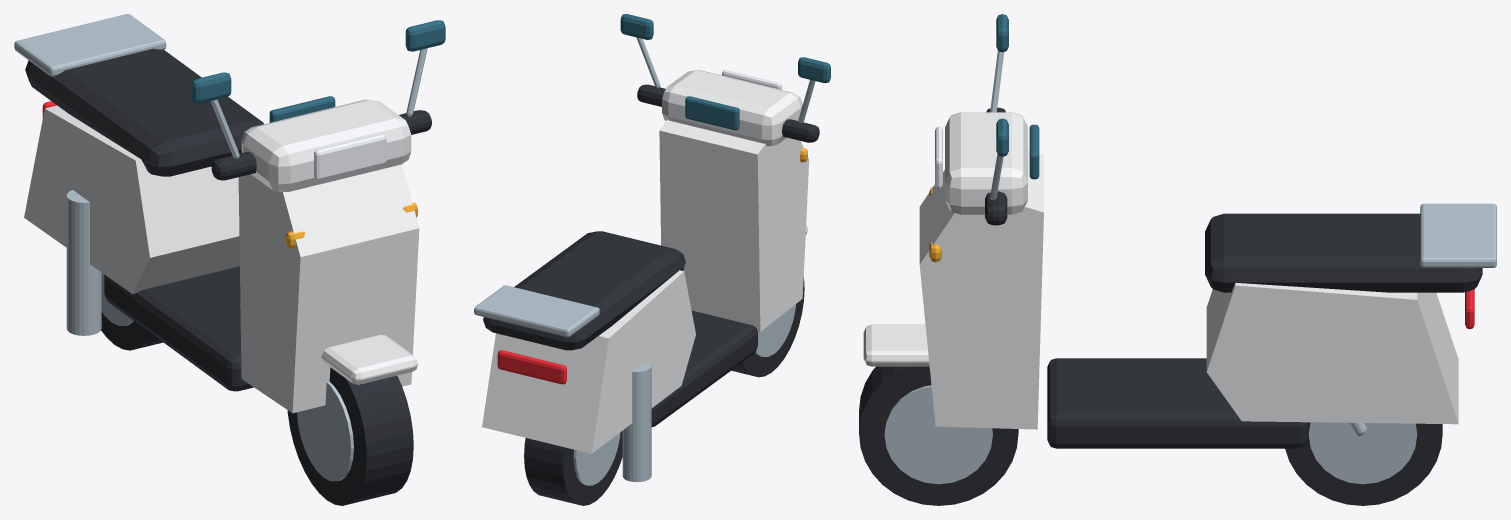
Rendered from taiwan-scooter-white.glb.
The picture shows the model from 3 angles, left to right: view 1: azimuth 30°, elevation 25°; view 2: azimuth 150°, elevation 25°; view 3: azimuth 270°, elevation 25°; orthographic projection. The views are drawn at different scales.
Visible parts, largest first — view 1: Front fairing, Rear body, Two-place saddle, Step-through floor, Scooter tyre.001, Handlebar nacelle, Rear rack, Exhaust, Scooter alloy.002, Front fender, Headlamp, Scooter tyre (+8 smaller); view 2: Front fairing, Rear body, Two-place saddle, Handlebar nacelle, Step-through floor, Rear rack, Scooter tyre, Exhaust, Rear light, Scooter alloy, Scooter tyre.001, Instrument panel (+6 smaller); view 3: Rear body, Front fairing, Step-through floor, Two-place saddle, Scooter tyre.001, Handlebar nacelle, Scooter alloy.003, Scooter alloy.001, Rear rack, Scooter tyre, Front fender.
Boxes of the visible parts, left/top/right/bottom form: Front fairing: left=238, top=164, right=419, bottom=413; Rear body: left=24, top=105, right=239, bottom=294; Two-place saddle: left=25, top=48, right=263, bottom=176; Step-through floor: left=104, top=266, right=253, bottom=391; Scooter tyre.001: left=287, top=367, right=413, bottom=505; Handlebar nacelle: left=241, top=99, right=411, bottom=192; Rear rack: left=14, top=14, right=166, bottom=76; Exhaust: left=66, top=190, right=101, bottom=335; Scooter alloy.002: left=297, top=381, right=353, bottom=481; Front fender: left=321, top=334, right=417, bottom=384; Headlamp: left=314, top=134, right=386, bottom=180; Scooter tyre: left=101, top=312, right=162, bottom=350; Front fairing: left=659, top=119, right=809, bottom=331; Rear body: left=482, top=270, right=695, bottom=453; Two-place saddle: left=483, top=231, right=685, bottom=350; Handlebar nacelle: left=662, top=70, right=802, bottom=146; Step-through floor: left=651, top=310, right=757, bottom=426; Rear rack: left=474, top=285, right=599, bottom=337; Scooter tyre: left=524, top=431, right=622, bottom=505; Exhaust: left=622, top=361, right=651, bottom=482; Rear light: left=497, top=350, right=566, bottom=384; Scooter alloy: left=573, top=432, right=620, bottom=485; Scooter tyre.001: left=731, top=277, right=804, bottom=377; Instrument panel: left=685, top=96, right=739, bottom=130; Rear body: left=1206, top=283, right=1458, bottom=424; Front fairing: left=919, top=150, right=1043, bottom=429; Step-through floor: left=1047, top=358, right=1308, bottom=448; Two-place saddle: left=1205, top=213, right=1482, bottom=292; Scooter tyre.001: left=859, top=366, right=1018, bottom=505; Handlebar nacelle: left=945, top=112, right=1027, bottom=214; Scooter alloy.003: left=884, top=385, right=992, bottom=484; Scooter alloy.001: left=1308, top=422, right=1417, bottom=484; Rear rack: left=1420, top=203, right=1496, bottom=267; Scooter tyre: left=1285, top=422, right=1442, bottom=505; Front fender: left=863, top=324, right=929, bottom=366.
Bounding box in the file's own units: 0.915 × 1.46 × 2.
